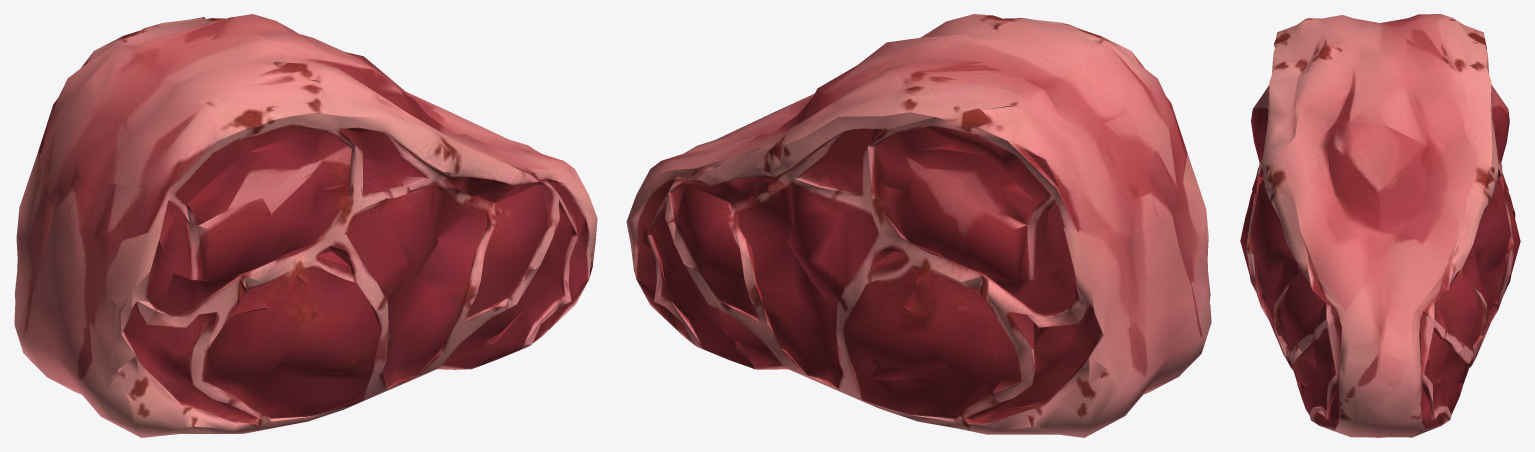
File: meat_raw_krolik_idle.glb
The picture shows the model from 3 angles, left to right: view 1: azimuth 30°, elevation 25°; view 2: azimuth 150°, elevation 25°; view 3: azimuth 270°, elevation 25°; orthographic projection. The views are drawn at different scales.
Visible parts, largest first — view 1: tripo_node_4372a078-edb7-4907-bcf5-c00d866d02fe; view 2: tripo_node_4372a078-edb7-4907-bcf5-c00d866d02fe; view 3: tripo_node_4372a078-edb7-4907-bcf5-c00d866d02fe.
Boxes of the visible parts, x1,y1,x2,y2 form: tripo_node_4372a078-edb7-4907-bcf5-c00d866d02fe: (14,14,597,437); tripo_node_4372a078-edb7-4907-bcf5-c00d866d02fe: (626,14,1211,437); tripo_node_4372a078-edb7-4907-bcf5-c00d866d02fe: (1240,14,1520,437).
Bounding box in the file's own units: 0.1502 × 0.0899 × 0.0811.
1 material, 1 textured.
